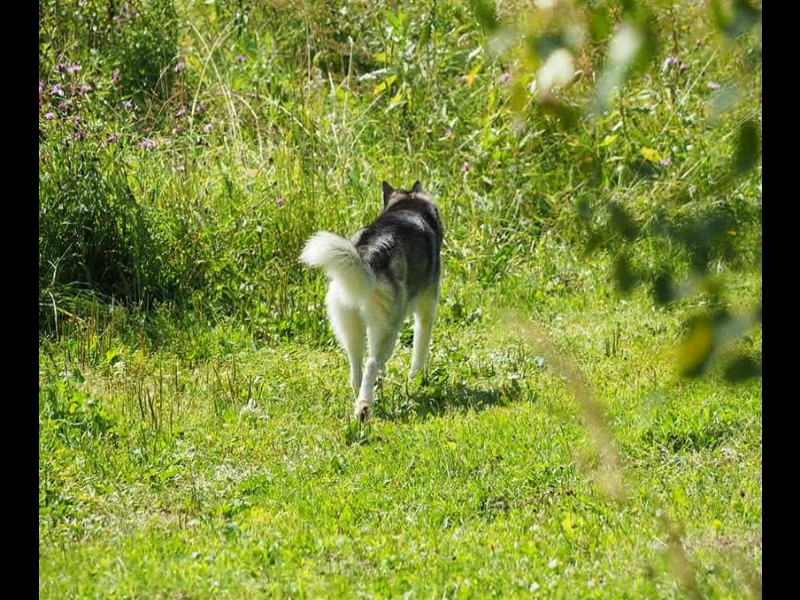dog: (299, 169, 446, 426)
